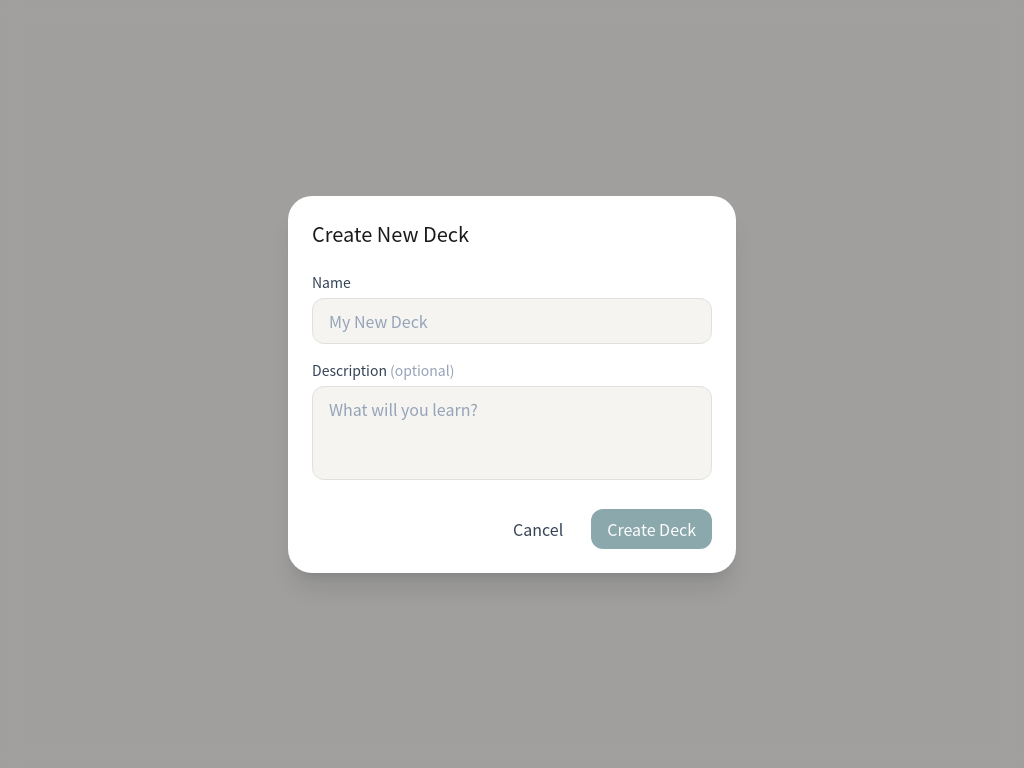
Test: CreateDeckModal › shows loading state during submission
Type "Test Deck" into the field labelled "Name" at (512, 320), box [312, 298, 712, 344]
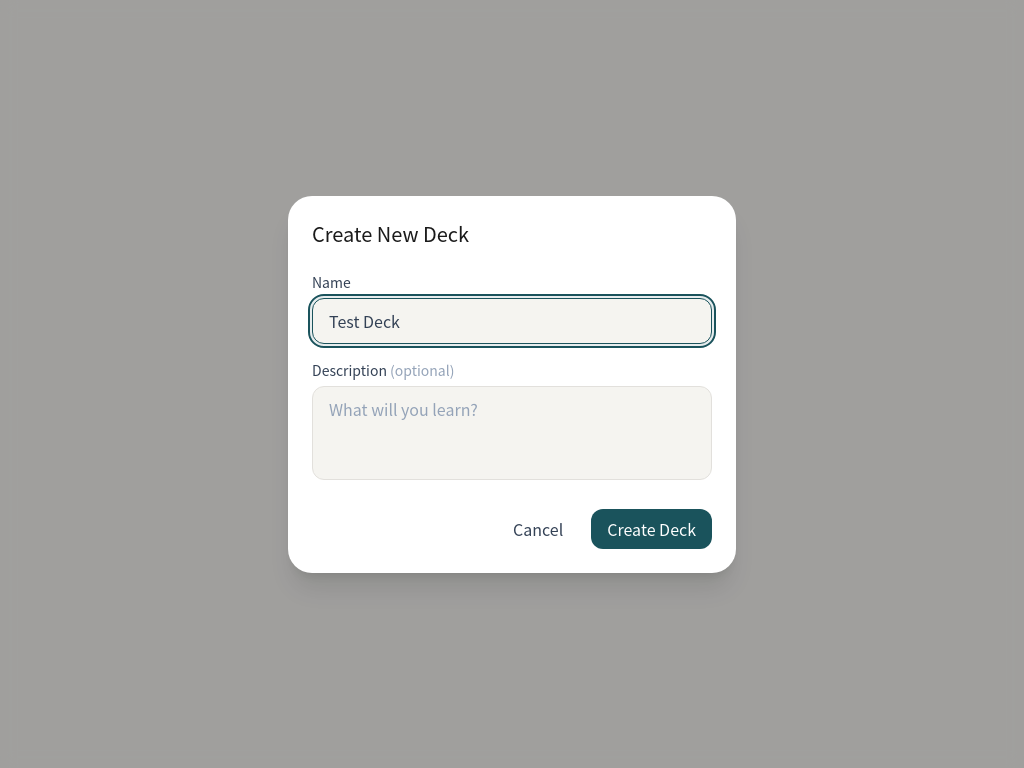
Click the button "Create Deck" at (652, 528), box [591, 508, 712, 548]
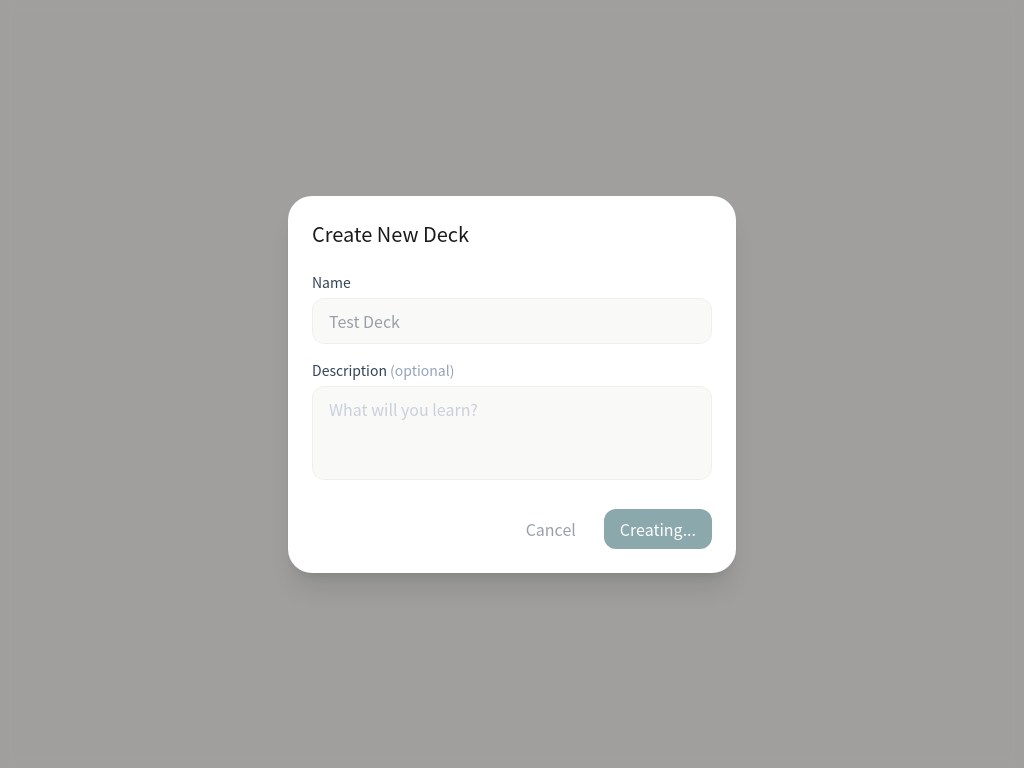
Now the button "Creating..." is disabled, box [604, 508, 712, 548]
Now the button "Cancel" is disabled, box [510, 508, 592, 548]
Now the field labelled "Name" is disabled, box [312, 298, 712, 344]
